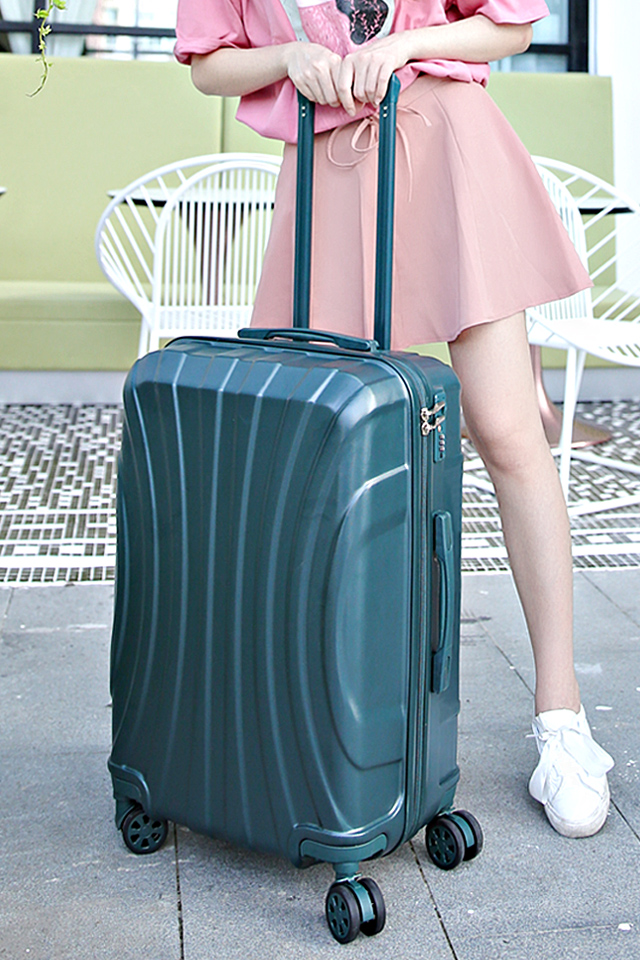box: (109, 331, 461, 862)
handle: (429, 508, 456, 690), (237, 327, 379, 350)
lock: (421, 386, 449, 464)
wheel: (326, 875, 386, 946), (424, 806, 483, 871), (120, 803, 169, 854)
